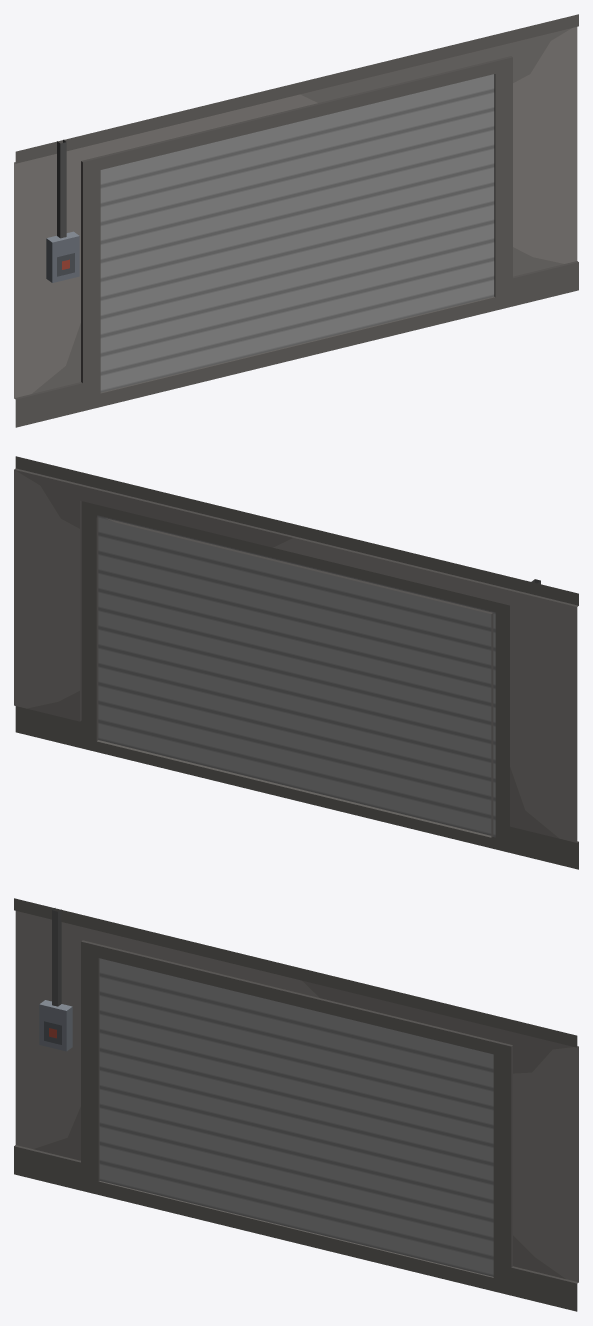
Rendered from AI_Env_Wall_Grey_GarageDoor.fbx.
3 renders of one model, top to bottom at view 1: azimuth 30°, elevation 25°; view 2: azimuth 150°, elevation 25°; view 3: azimuth 330°, elevation 25°, orthographic.
Parts seen in each view (by area): view 1: AI_Env_Wall_Grey_GarageDoor; view 2: AI_Env_Wall_Grey_GarageDoor; view 3: AI_Env_Wall_Grey_GarageDoor.
Boxes of the visible parts, x1,y1,x2,y2 form: AI_Env_Wall_Grey_GarageDoor: (14,14,578,427); AI_Env_Wall_Grey_GarageDoor: (14,456,578,869); AI_Env_Wall_Grey_GarageDoor: (14,898,578,1311).
Size of the model in its own units: 10 by 4.69 by 0.2623.
